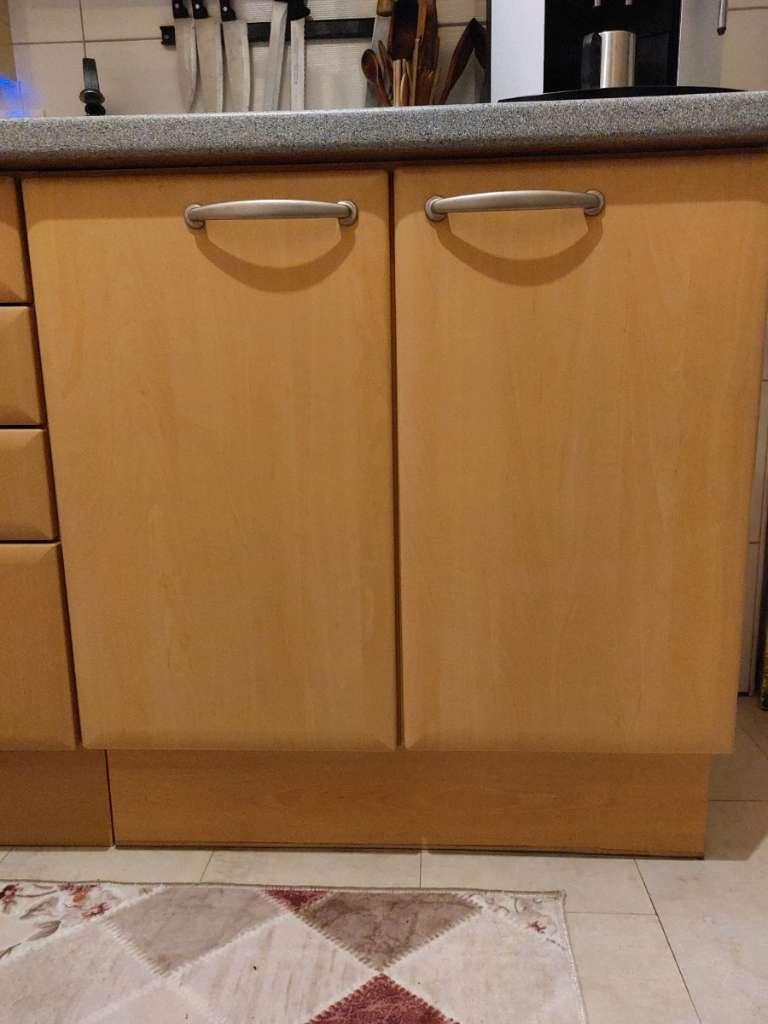cabinet_door: (395, 158, 762, 757), (50, 172, 401, 755)
handle: (417, 178, 606, 233), (181, 186, 369, 237)
